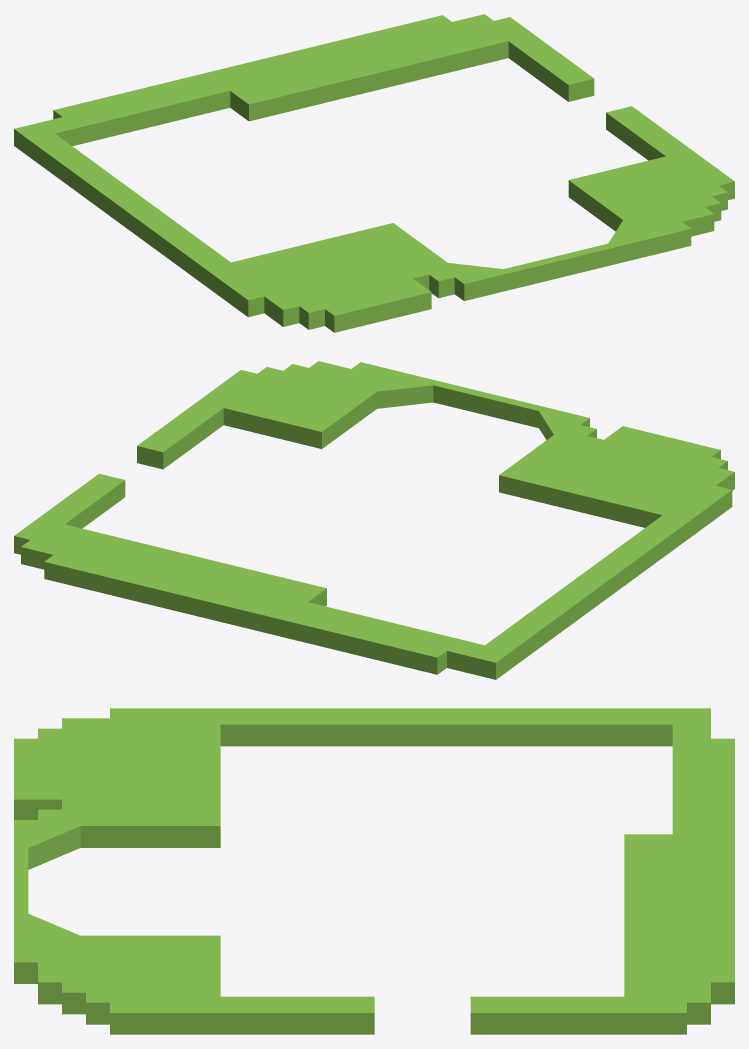
The model's file is x_zem_0_44_1_rmstrd.fbx.
The picture shows the model from 3 angles, top to bottom: view 1: azimuth 30°, elevation 25°; view 2: azimuth 150°, elevation 25°; view 3: azimuth 270°, elevation 25°; orthographic projection. The views are drawn at different scales.
Visible parts, largest first — view 1: x_zem_0_44_1_rmstrd1; view 2: x_zem_0_44_1_rmstrd1; view 3: x_zem_0_44_1_rmstrd1.
Boxes of the visible parts, x1=… form: x_zem_0_44_1_rmstrd1: x1=14, y1=14, x2=734, y2=332; x_zem_0_44_1_rmstrd1: x1=14, y1=361, x2=734, y2=679; x_zem_0_44_1_rmstrd1: x1=14, y1=708, x2=734, y2=1034.
Bounding box in the file's own units: 30 × 1 × 30.
